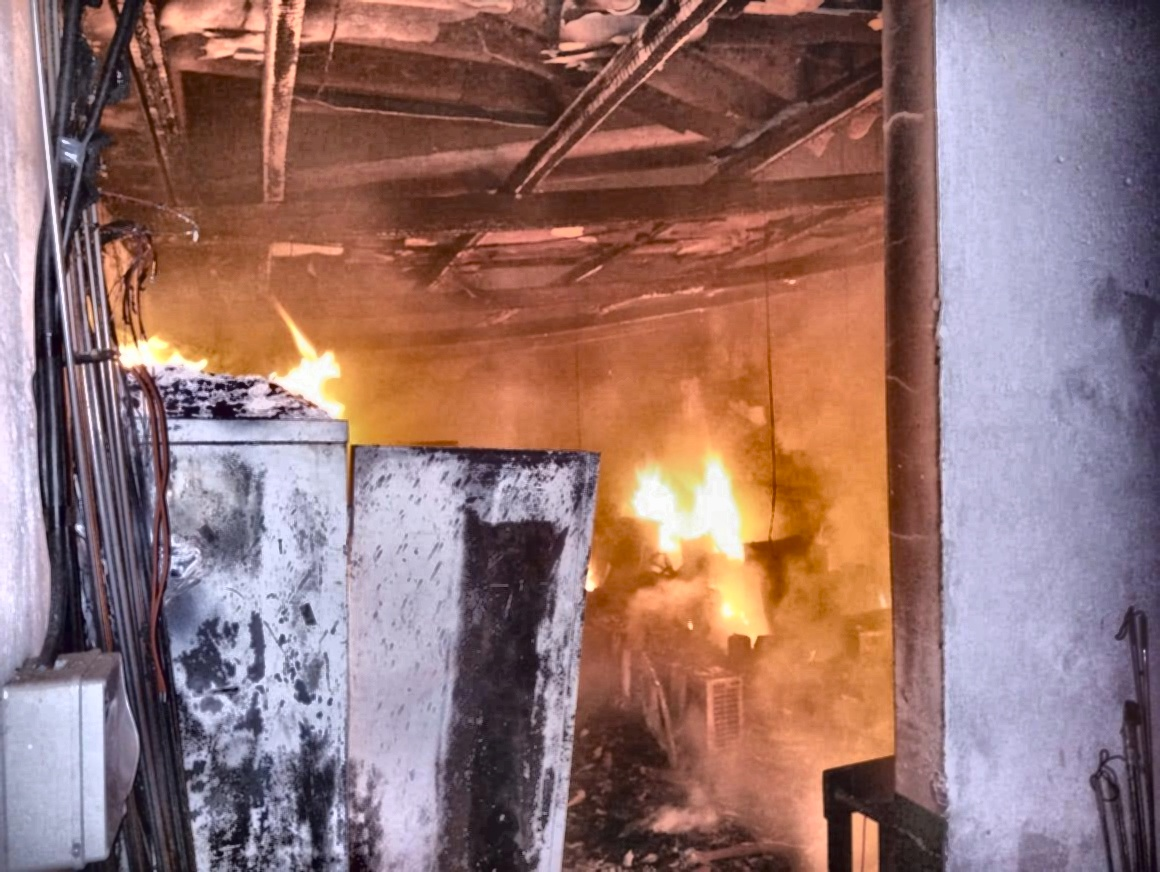fire: (110, 273, 425, 424), (607, 388, 777, 622)
